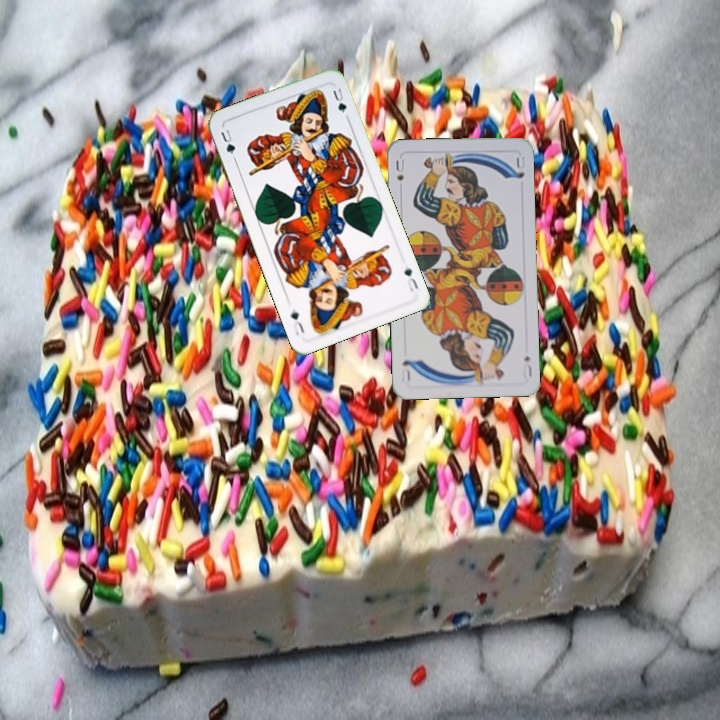GU: (216, 125, 239, 163), (400, 263, 421, 294)
SU: (519, 352, 535, 380), (392, 155, 407, 183)
